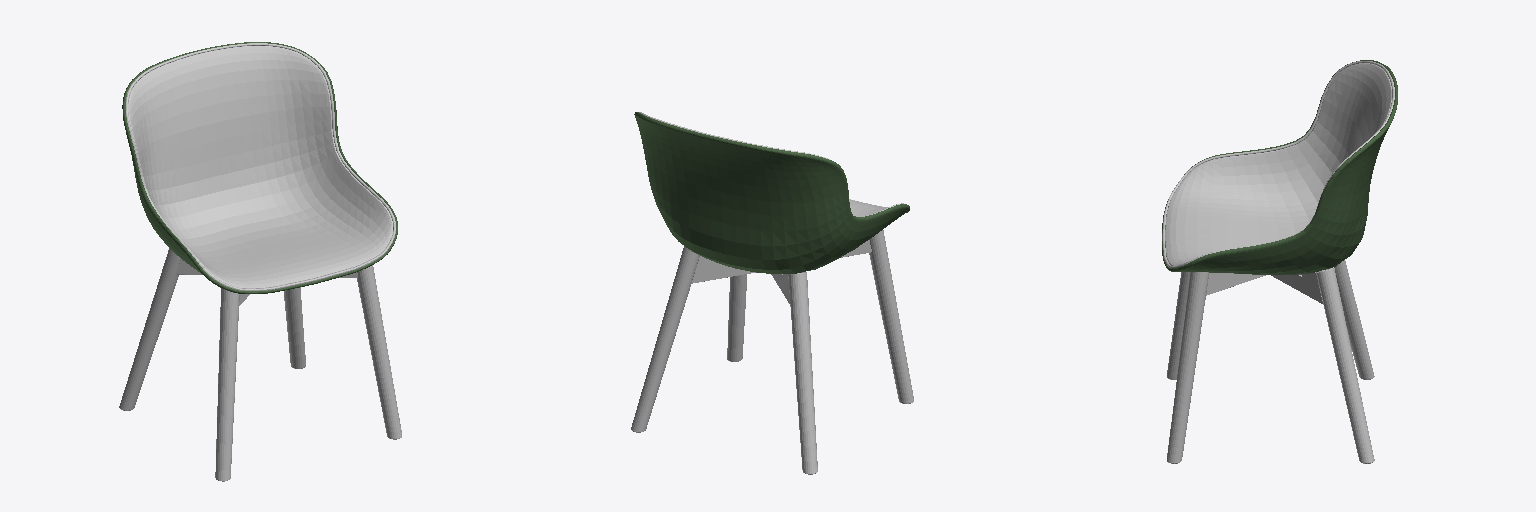
The picture shows the model from 3 angles: view 1: azimuth 30°, elevation 25°; view 2: azimuth 150°, elevation 25°; view 3: azimuth 270°, elevation 25°; orthographic projection.
Visible parts, largest first — view 1: SM_Esstischstuhl_2; view 2: SM_Esstischstuhl_2; view 3: SM_Esstischstuhl_2.
Part boxes in pixels (left/top/right/bottom): SM_Esstischstuhl_2: left=119, top=42, right=401, bottom=481; SM_Esstischstuhl_2: left=631, top=112, right=913, bottom=474; SM_Esstischstuhl_2: left=1162, top=60, right=1397, bottom=463.
Bounding box in the file's own units: 54.6 × 82.88 × 54.6.
Materials: 4 (1 with a texture image).